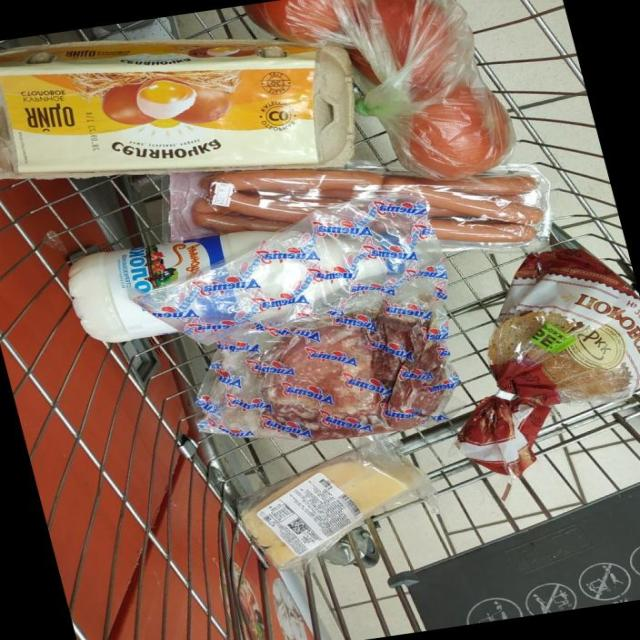Bread: (457, 248, 640, 477)
Cheese: (239, 438, 434, 570)
Eggs: (0, 39, 355, 179)
Meat: (134, 194, 457, 440)
Milk: (68, 230, 273, 343)
Sausages: (169, 165, 550, 251)
Tomatoes: (405, 85, 513, 178), (374, 0, 456, 101), (243, 0, 368, 46), (347, 48, 381, 84)
